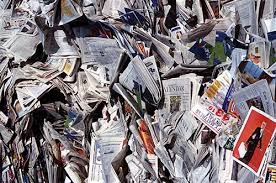paper: (76, 104, 132, 183), (228, 104, 276, 179), (118, 52, 173, 110), (3, 64, 58, 113), (66, 66, 119, 113), (2, 26, 51, 66)
